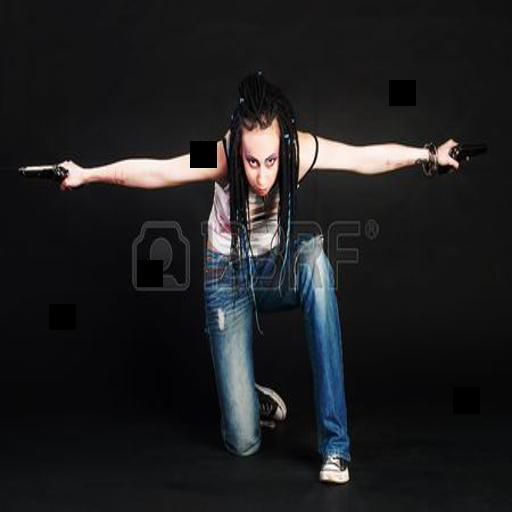Handgun: (433, 126, 498, 167), (18, 158, 75, 191)
